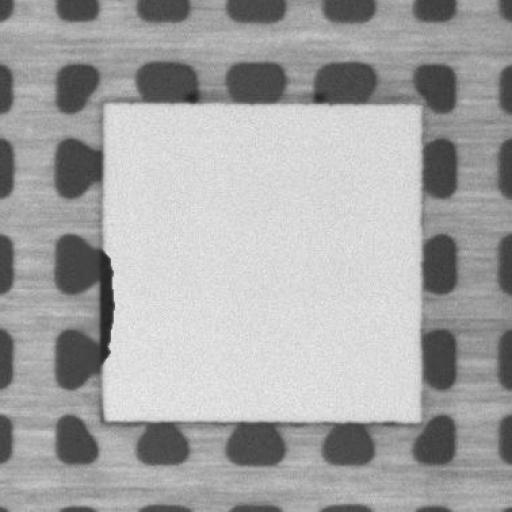DIE_BROKEN: (95, 244, 116, 372)
